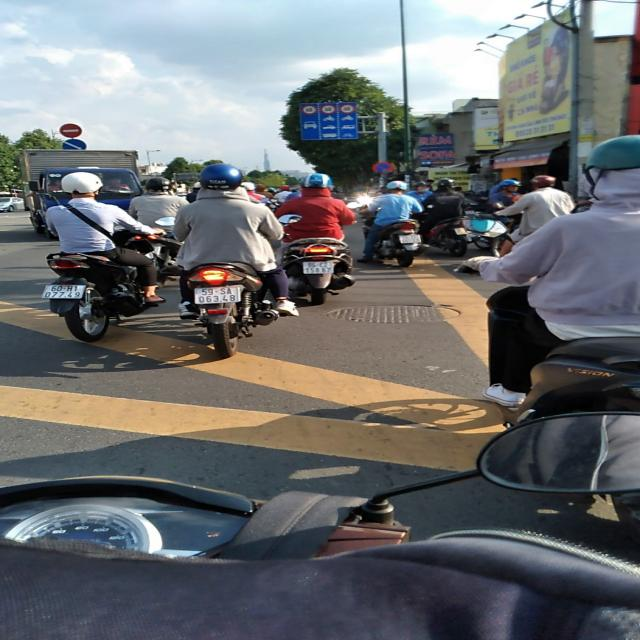Cam do: (372, 162, 394, 174)
Cam nguoc chieu: (58, 123, 82, 138)
Hieu lenh: (62, 138, 87, 154)
Toc do toi da: (301, 105, 318, 115), (339, 104, 355, 114), (320, 105, 336, 114)
